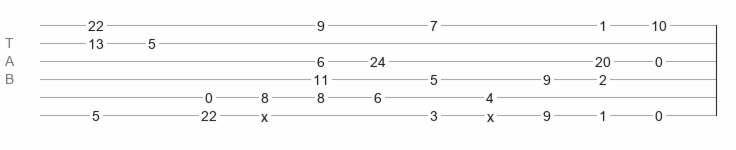0: (205, 90, 213, 100), (655, 54, 663, 64), (655, 108, 663, 118)
1: (599, 18, 607, 28), (599, 108, 607, 118)
10: (651, 18, 667, 28)
11: (313, 72, 329, 82)
13: (88, 36, 104, 46)
2: (599, 72, 607, 82)
20: (595, 54, 611, 64)
22: (88, 18, 104, 28), (201, 108, 217, 118)
24: (370, 54, 386, 64)
3: (430, 108, 438, 118)
4: (486, 90, 494, 100)
5: (92, 108, 100, 118), (148, 36, 156, 46), (430, 72, 438, 82)
6: (317, 54, 325, 64), (374, 90, 382, 100)
7: (430, 18, 438, 28)
8: (261, 90, 269, 100), (317, 90, 325, 100)
9: (317, 18, 325, 28), (543, 108, 551, 118), (543, 72, 551, 82)
x: (261, 109, 268, 117), (487, 109, 494, 117)
